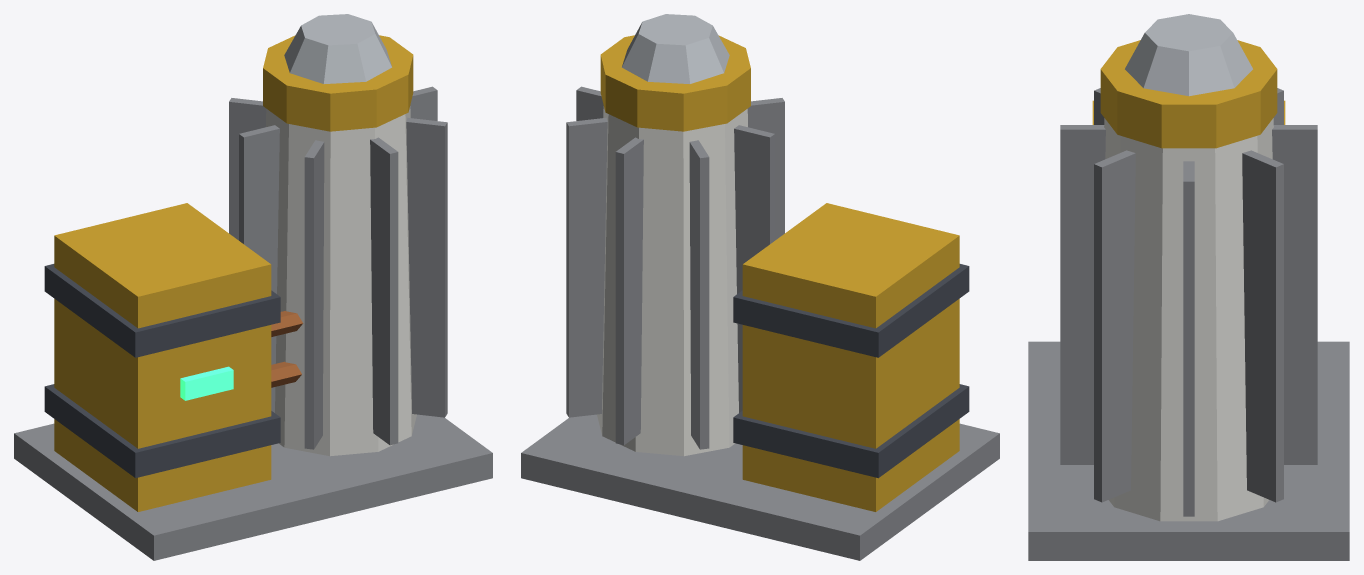
Rendered from power-mmrtg-kilopower.glb.
The picture shows the model from 3 angles, left to right: view 1: azimuth 30°, elevation 25°; view 2: azimuth 150°, elevation 25°; view 3: azimuth 270°, elevation 25°; orthographic projection. The views are drawn at different scales.
Visible parts, largest first — view 1: PowerMmrtgKilopower_Titanium, PowerMmrtgKilopower_FoilGold, PowerMmrtgKilopower_Hull, PowerMmrtgKilopower_Strap, PowerMmrtgKilopower_Steel, PowerMmrtgKilopower_LedGreen, PowerMmrtgKilopower_Copper; view 2: PowerMmrtgKilopower_Titanium, PowerMmrtgKilopower_FoilGold, PowerMmrtgKilopower_Hull, PowerMmrtgKilopower_Strap, PowerMmrtgKilopower_Steel; view 3: PowerMmrtgKilopower_Titanium, PowerMmrtgKilopower_Hull, PowerMmrtgKilopower_FoilGold, PowerMmrtgKilopower_Steel.
Part boxes in pixels (x1=…): PowerMmrtgKilopower_Titanium: x1=14, y1=86, x2=492, y2=560; PowerMmrtgKilopower_FoilGold: x1=54, y1=35, x2=413, y2=511; PowerMmrtgKilopower_Hull: x1=266, y1=106, x2=416, y2=456; PowerMmrtgKilopower_Strap: x1=44, y1=264, x2=280, y2=478; PowerMmrtgKilopower_Steel: x1=284, y1=14, x2=391, y2=83; PowerMmrtgKilopower_LedGreen: x1=180, y1=366, x2=233, y2=400; PowerMmrtgKilopower_Copper: x1=271, y1=311, x2=303, y2=387; PowerMmrtgKilopower_Titanium: x1=521, y1=86, x2=999, y2=560; PowerMmrtgKilopower_FoilGold: x1=600, y1=35, x2=959, y2=511; PowerMmrtgKilopower_Hull: x1=597, y1=106, x2=747, y2=456; PowerMmrtgKilopower_Strap: x1=733, y1=264, x2=969, y2=478; PowerMmrtgKilopower_Steel: x1=622, y1=14, x2=729, y2=83; PowerMmrtgKilopower_Titanium: x1=1028, y1=88, x2=1349, y2=560; PowerMmrtgKilopower_Hull: x1=1104, y1=118, x2=1273, y2=521; PowerMmrtgKilopower_FoilGold: x1=1092, y1=40, x2=1285, y2=148; PowerMmrtgKilopower_Steel: x1=1125, y1=14, x2=1252, y2=96.
Bounding box in the file's own units: 0.58 × 0.66 × 0.4.
